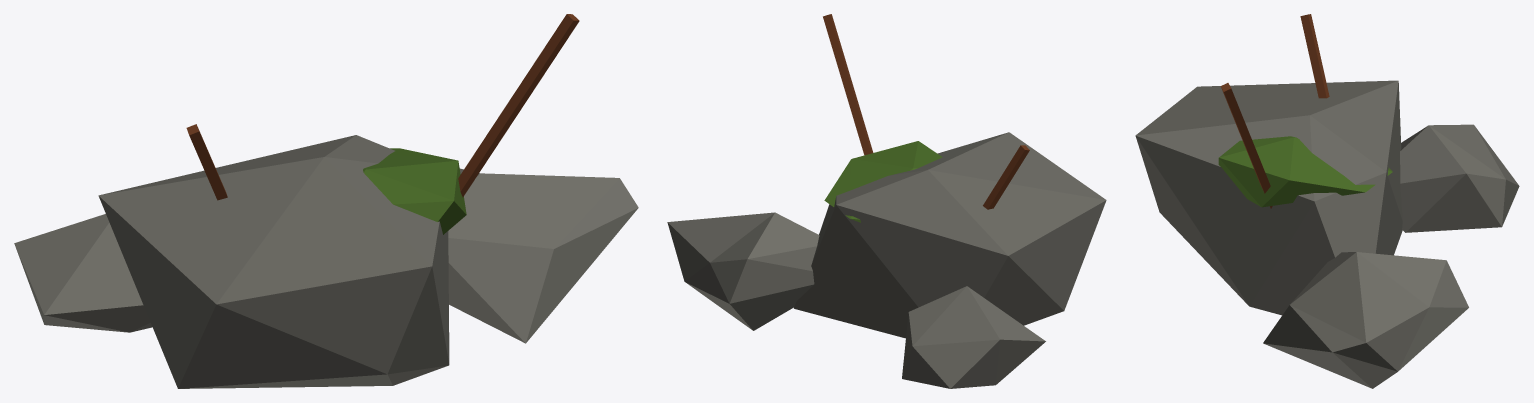
File: rubble.glb
3 renders of one model, left to right at view 1: azimuth 30°, elevation 25°; view 2: azimuth 150°, elevation 25°; view 3: azimuth 270°, elevation 25°, orthographic. The views are drawn at different scales.
Parts seen in each view (by area): view 1: Rubble; view 2: Rubble; view 3: Rubble.
Boxes of the visible parts, left/top/right/bottom form: Rubble: left=14, top=14, right=638, bottom=388; Rubble: left=667, top=14, right=1106, bottom=388; Rubble: left=1135, top=14, right=1519, bottom=388.
Bounding box in the file's own units: 2.52 × 1.66 × 1.93.
